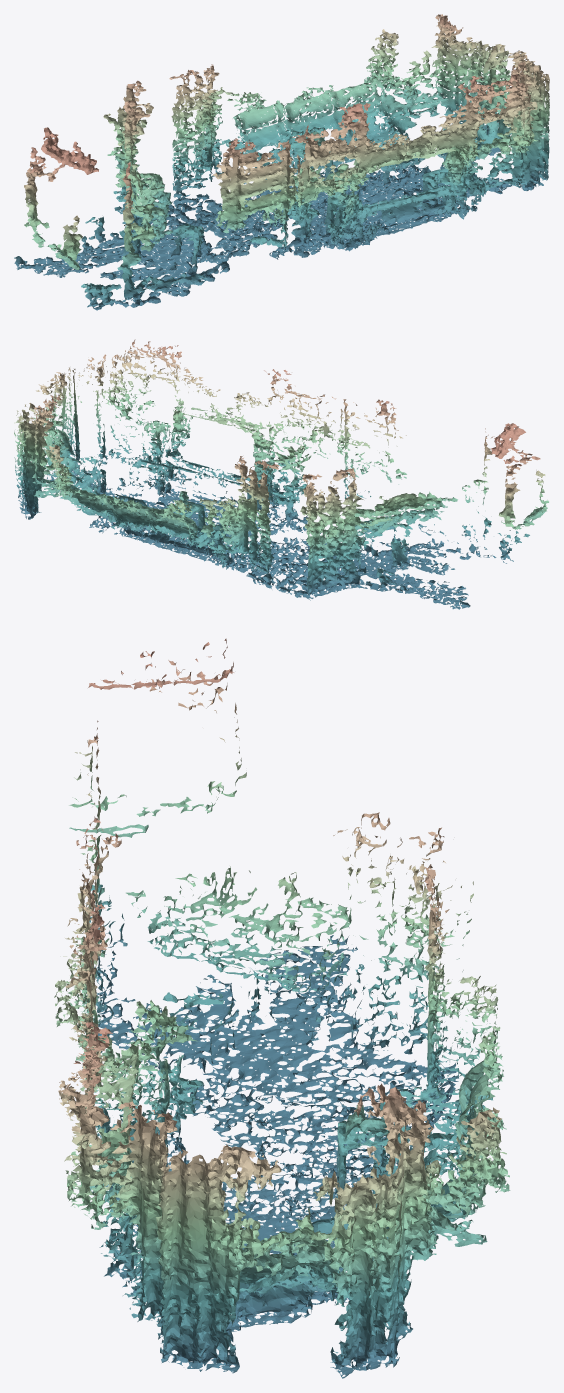
Rendered from room_surface_topography.glb.
3 renders of one model, top to bottom at view 1: azimuth 30°, elevation 25°; view 2: azimuth 150°, elevation 25°; view 3: azimuth 270°, elevation 25°, orthographic. The views are drawn at different scales.
Visible parts, largest first — view 1: geometry_0; view 2: geometry_0; view 3: geometry_0.
Part boxes in pixels (x1,y1,x2,y2): geometry_0: (14,14,549,310); geometry_0: (14,339,548,609); geometry_0: (54,638,510,1378).
Size of the model in its own units: 4.3 by 1.36 by 1.75.
